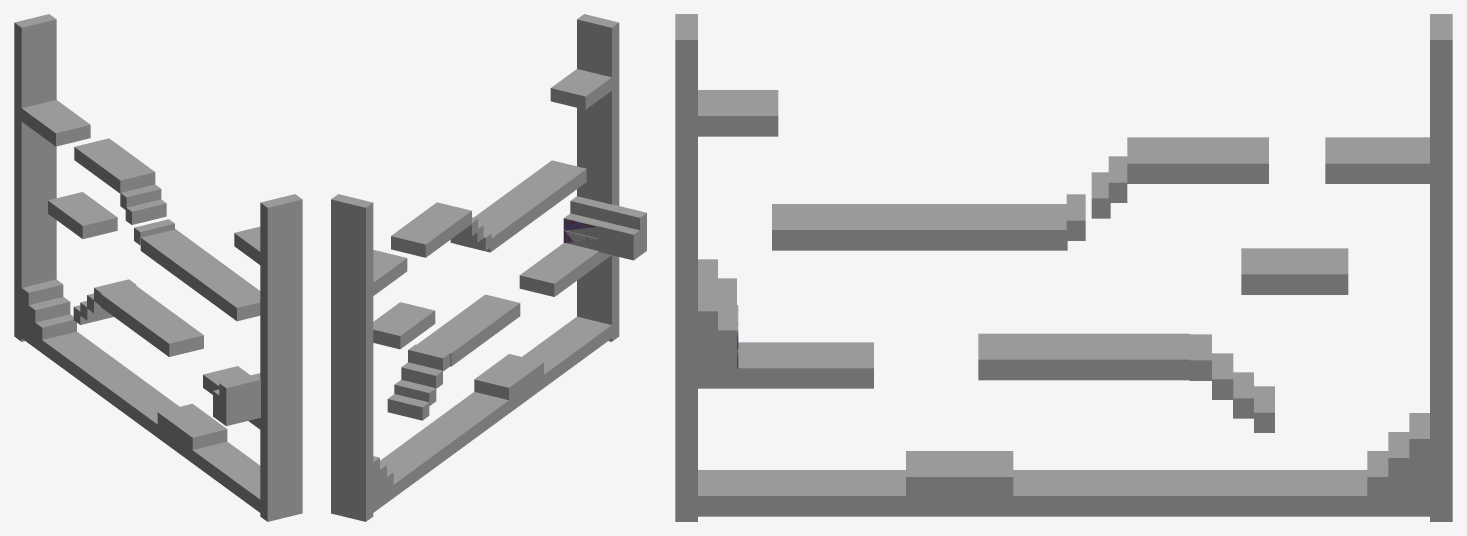
File: MDL_stage_atari.fbx
3 views of the same model, side by side, from view 1: azimuth 30°, elevation 25°; view 2: azimuth 150°, elevation 25°; view 3: azimuth 270°, elevation 25° (orthographic). The views are drawn at different scales.
Parts seen in each view (by area): view 1: pCube193, pCube194, pCube136, pCube145, pCube146, pCube142, pCube147, pCube149, pCube148, pCube187, pCube151, pCube150 (+7 smaller); view 2: pCube194, pCube193, pCube136, pCube142, pCube145, pCube146, pCube137, pCube187, pCube148, pCube149, pCube147, pCube192 (+4 smaller); view 3: pCube136, pCube145, pCube193, pCube194, pCube146, pCube142, pCube137, pCube187, pCube147, pCube149, pCube148, pCube151 (+10 smaller).
Part boxes in pixels (box(x1,y1,x2,y2)): pCube193: box(260, 194, 302, 521); pCube194: box(14, 14, 56, 341); pCube136: box(21, 326, 260, 513); pCube145: box(140, 229, 260, 321); pCube146: box(100, 285, 203, 356); pCube142: box(213, 226, 260, 426); pCube147: box(16, 100, 90, 146); pCube149: box(48, 192, 117, 238); pCube148: box(157, 403, 227, 450); pCube187: box(74, 138, 147, 188); pCube151: box(14, 296, 70, 322); pCube150: box(21, 313, 76, 340); pCube194: box(331, 194, 373, 521); pCube193: box(577, 14, 619, 341); pCube136: box(372, 316, 611, 513); pCube142: box(550, 69, 646, 260); pCube145: box(456, 160, 586, 252); pCube146: box(417, 294, 520, 366); pCube137: box(519, 243, 611, 296); pCube187: box(391, 207, 464, 257); pCube148: box(474, 354, 543, 400); pCube149: box(373, 302, 435, 349); pCube147: box(368, 250, 407, 299); pCube192: box(387, 394, 429, 420); pCube136: box(696, 470, 1432, 516); pCube145: box(772, 204, 1067, 250); pCube193: box(675, 14, 697, 521); pCube194: box(1430, 14, 1452, 521); pCube146: box(978, 333, 1189, 380); pCube142: box(696, 90, 778, 369); pCube137: box(696, 342, 873, 388); pCube187: box(1148, 137, 1268, 183); pCube147: box(1325, 137, 1445, 183); pCube149: box(1241, 248, 1348, 294); pCube148: box(906, 451, 1013, 496); pCube151: box(1388, 432, 1452, 478).
Bounding box in the file's own units: 598 × 2536 × 3707.
Materials: 2 (1 with a texture image).
